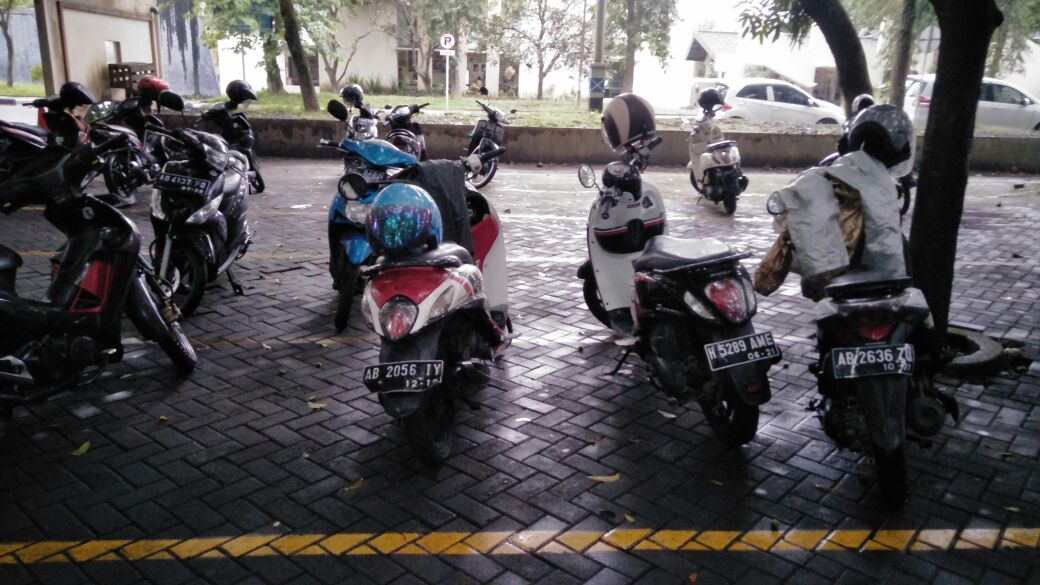plate: (832, 344, 916, 375), (707, 331, 777, 368), (365, 360, 445, 391), (154, 172, 210, 197)
